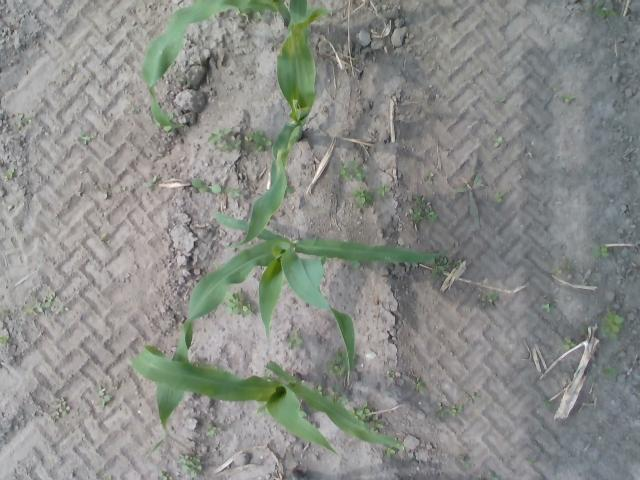Maize: (147, 210, 443, 454), (135, 344, 404, 456), (229, 8, 332, 248), (142, 0, 310, 129), (291, 468, 305, 480)
Weeds: (454, 175, 486, 227), (207, 126, 240, 150), (228, 290, 250, 316), (414, 198, 437, 222), (604, 312, 625, 338), (192, 178, 223, 195), (181, 454, 202, 478), (342, 162, 364, 181), (351, 188, 374, 206), (594, 1, 616, 19), (326, 353, 344, 375), (248, 132, 268, 150), (286, 333, 302, 350), (478, 293, 498, 305), (555, 258, 572, 272), (356, 404, 371, 418), (24, 301, 41, 312), (408, 210, 422, 222), (144, 176, 159, 187), (225, 188, 240, 198), (46, 292, 56, 307), (55, 398, 67, 410), (371, 416, 383, 428), (17, 114, 27, 128), (4, 167, 14, 181), (431, 267, 444, 277), (594, 246, 608, 255), (602, 366, 617, 374), (380, 184, 390, 196), (206, 424, 216, 436), (564, 338, 574, 348), (492, 192, 502, 202), (448, 406, 458, 416), (412, 378, 422, 388), (102, 396, 110, 408), (437, 257, 449, 265), (493, 136, 502, 146), (563, 96, 573, 104), (161, 472, 171, 480), (426, 172, 434, 181), (542, 302, 551, 310), (0, 336, 9, 344), (339, 395, 348, 403), (99, 387, 106, 396), (386, 449, 396, 455), (316, 386, 324, 393), (436, 403, 443, 410), (83, 138, 91, 144), (468, 392, 476, 398)
